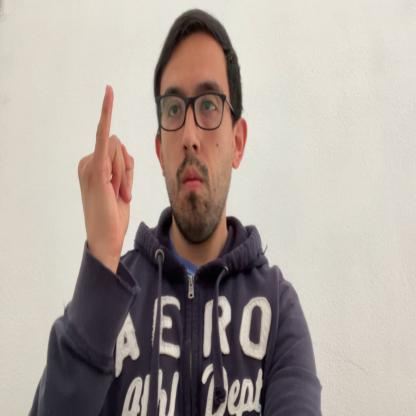I: (78, 83, 135, 274)
